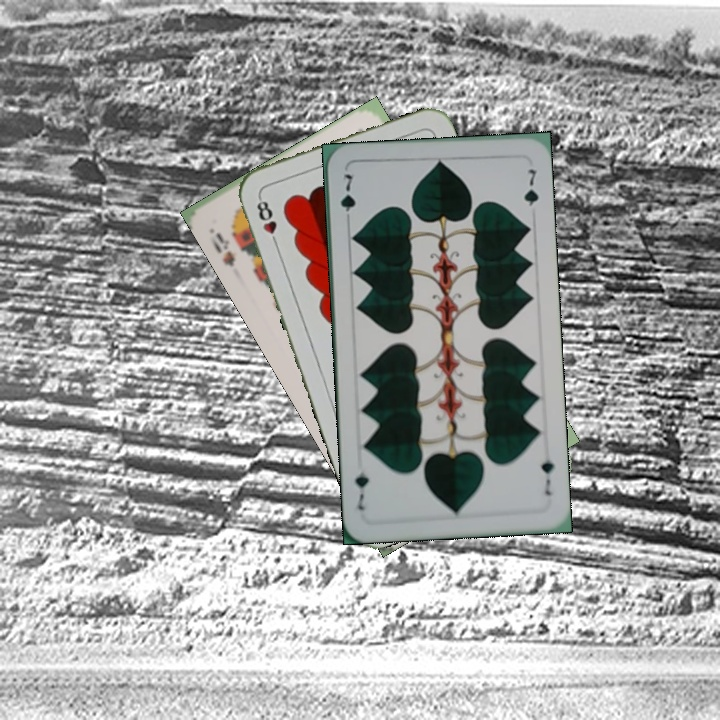G7: (336, 170, 358, 227), (537, 454, 557, 498)
H8: (252, 193, 282, 250)
S8: (211, 228, 238, 269)
